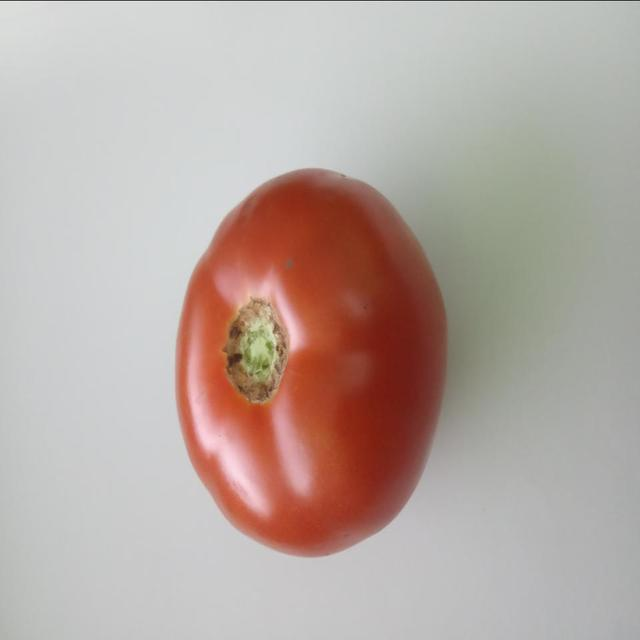Healthy Fruit: (108, 104, 303, 376)
